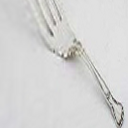fork: (23, 1, 128, 125)
